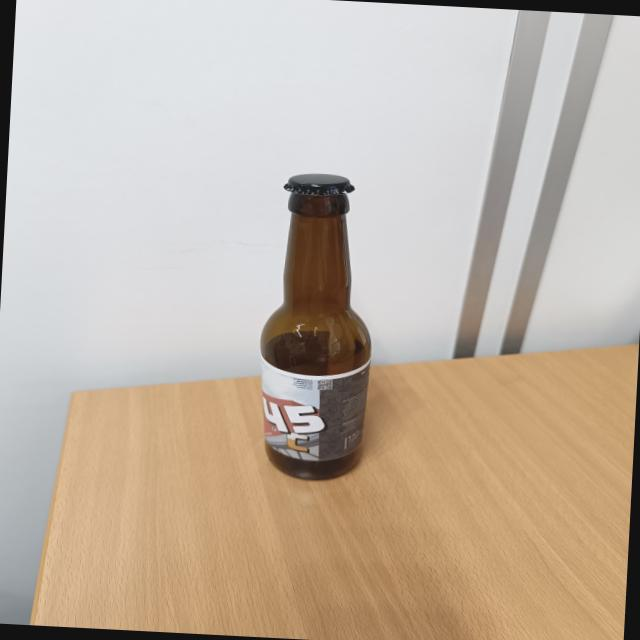Bottle: (253, 170, 382, 483)
Cap: (278, 170, 364, 202)
Label: (258, 363, 366, 462)
